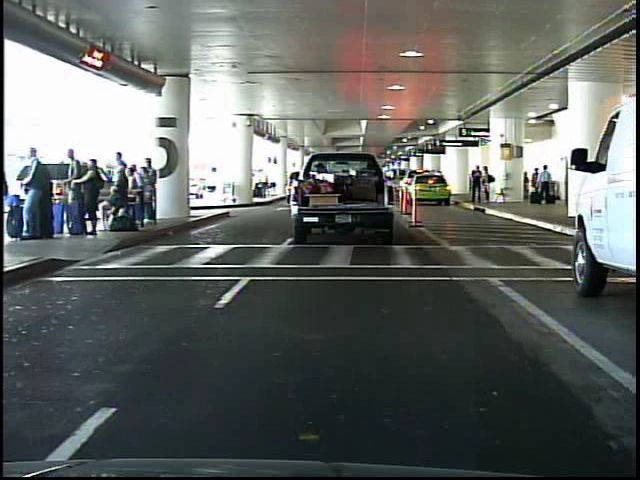person: (478, 165, 494, 205), (468, 162, 482, 205)
